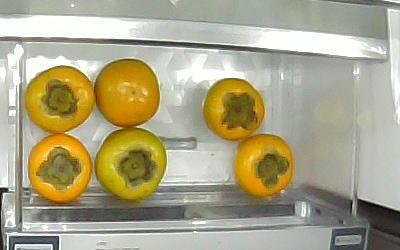persimmon: (95, 129, 167, 201), (25, 65, 95, 134), (96, 58, 160, 129), (28, 134, 92, 205), (203, 78, 266, 141), (234, 134, 295, 197)
